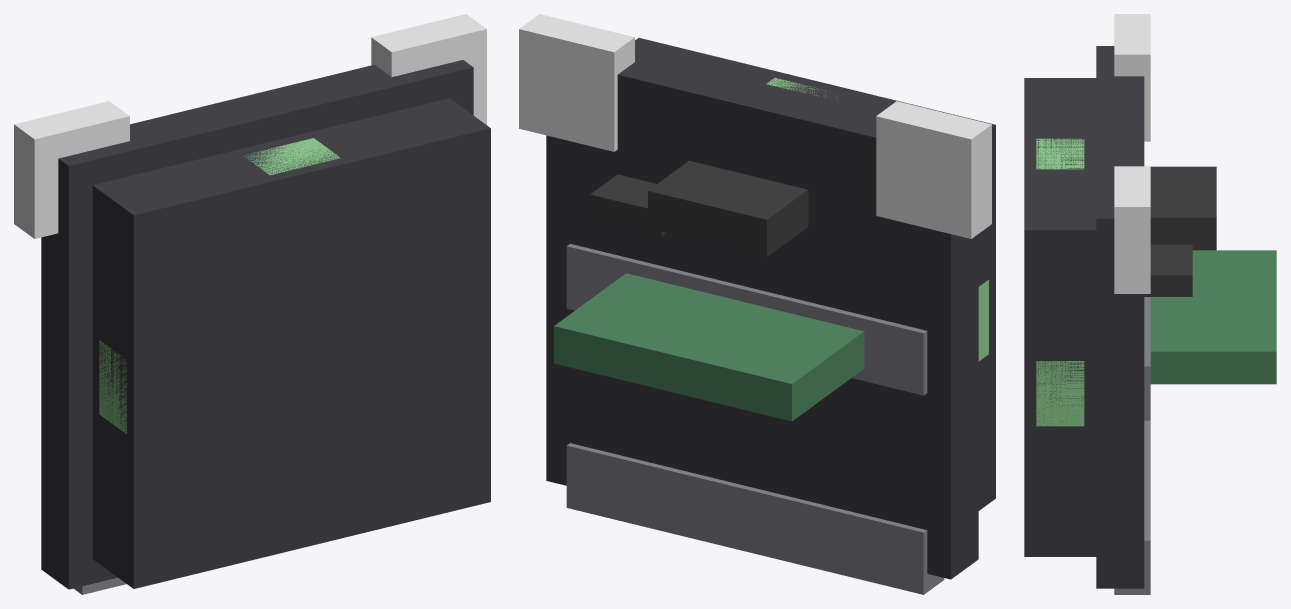
File: power_ring.gltf
The picture shows the model from 3 angles, left to right: view 1: azimuth 30°, elevation 25°; view 2: azimuth 150°, elevation 25°; view 3: azimuth 270°, elevation 25°; orthographic projection. The views are drawn at different scales.
Parts seen in each view (by area): view 1: power_ring; view 2: power_ring; view 3: power_ring.
Part boxes in pixels (left/top/right/bottom): power_ring: left=14, top=14, right=490, bottom=594; power_ring: left=519, top=14, right=995, bottom=594; power_ring: left=1024, top=14, right=1276, bottom=594.
Bounding box in the file's own units: 0.038 × 0.0375 × 0.021.
